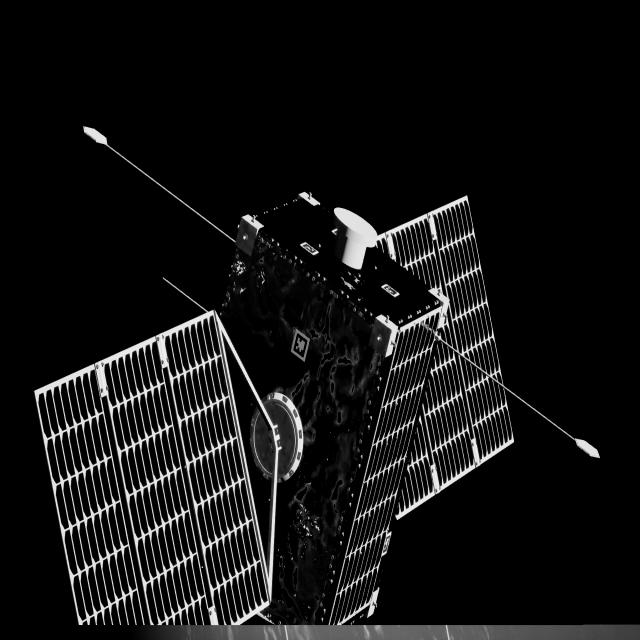medium_debris: (33, 193, 516, 630)
